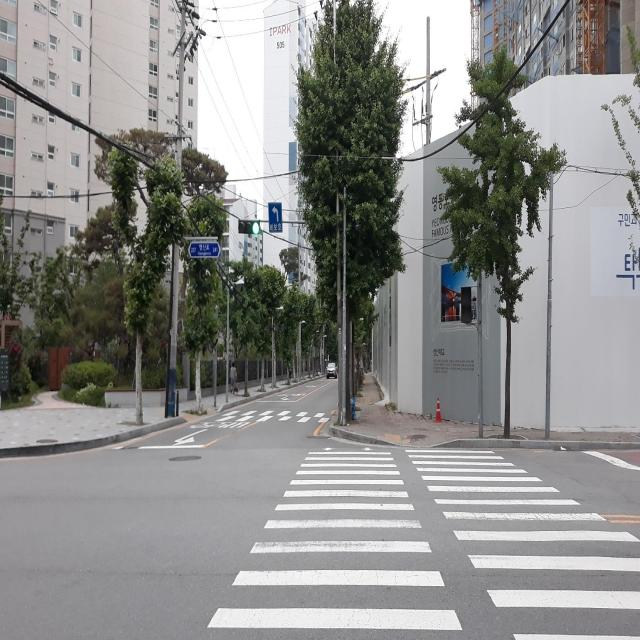횡단보도: (206, 446, 640, 640), (183, 408, 336, 430)
